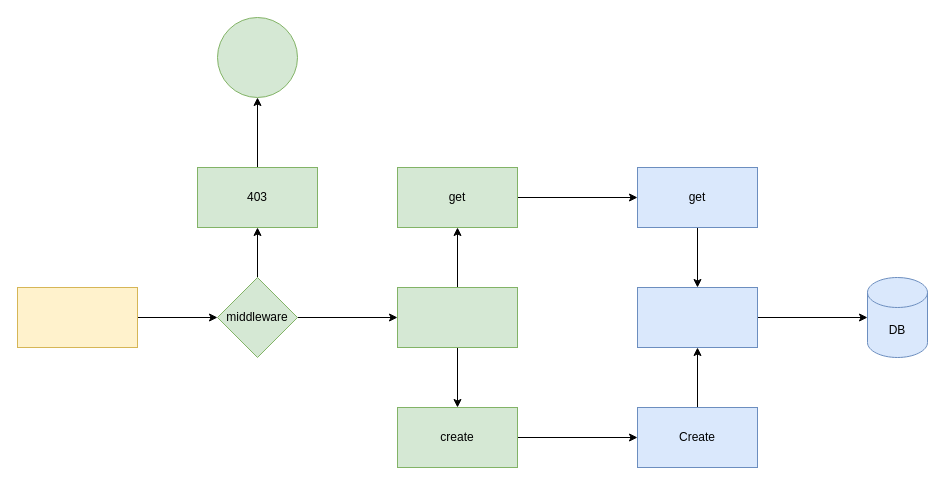
Some shapes in this 945 by 485 pixel diagram are drawn without their labels. The centre of each missing label's shape, as x and y in pixels:
client: the point at 77,317
end: the point at 257,57
index.ts: the point at 457,317
server.ts: the point at 697,317
